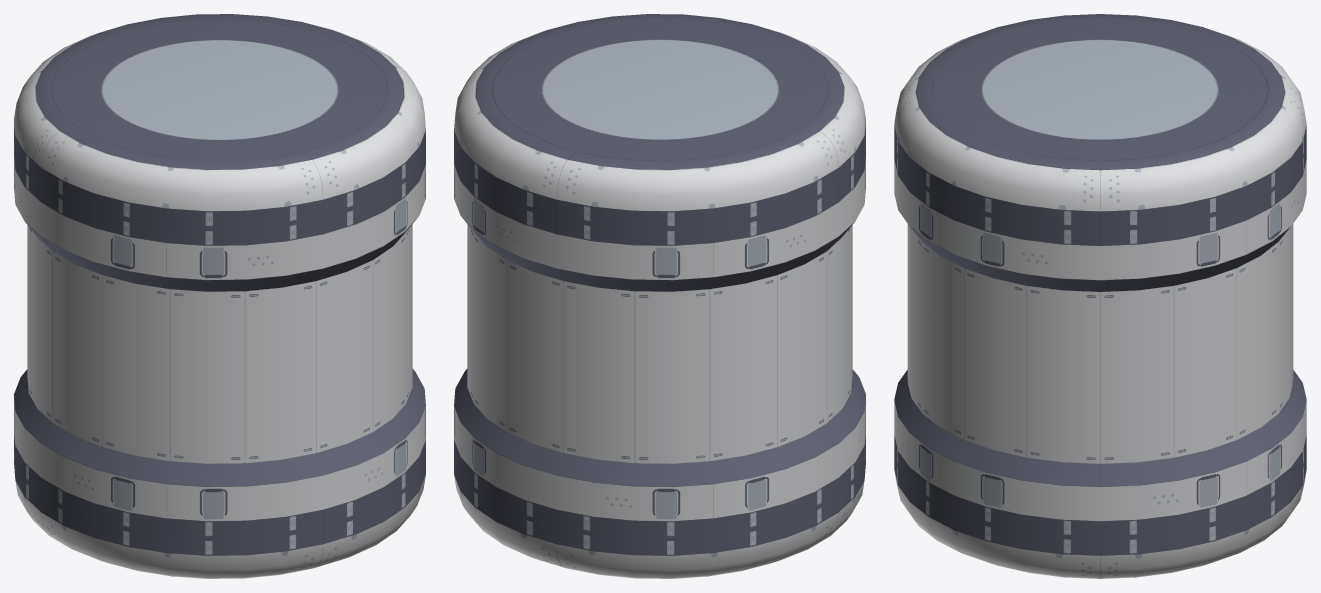
File: Big_Oxygen_Tank_01.FBX
3 views of the same model, side by side, from view 1: azimuth 30°, elevation 25°; view 2: azimuth 150°, elevation 25°; view 3: azimuth 270°, elevation 25° (orthographic).
Visible parts, largest first — view 1: Big_Oxygen_Tank_01; view 2: Big_Oxygen_Tank_01; view 3: Big_Oxygen_Tank_01.
Boxes of the visible parts, x1=… form: Big_Oxygen_Tank_01: x1=14, y1=14, x2=425, y2=578; Big_Oxygen_Tank_01: x1=454, y1=14, x2=865, y2=578; Big_Oxygen_Tank_01: x1=894, y1=14, x2=1306, y2=578.
Size of the model in its own units: 10.86 by 12 by 10.86.
